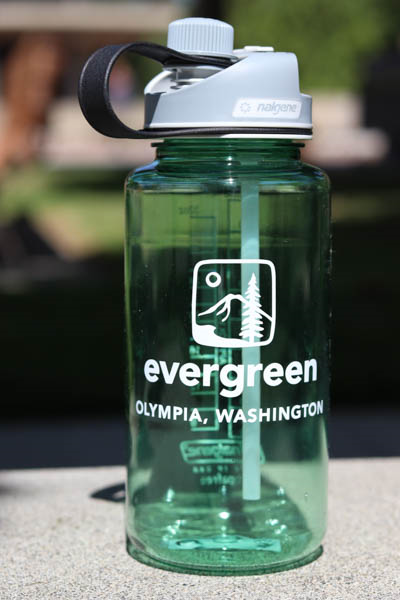bottle: (76, 16, 334, 579)
